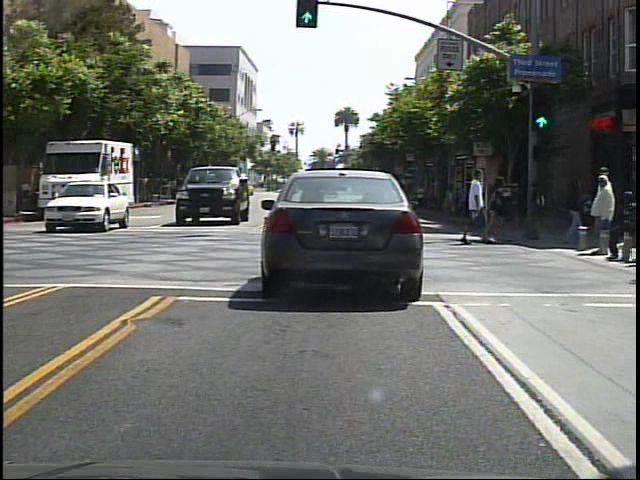person: (459, 163, 496, 249), (594, 167, 619, 260), (561, 174, 588, 245), (524, 173, 550, 244), (412, 181, 431, 214)
